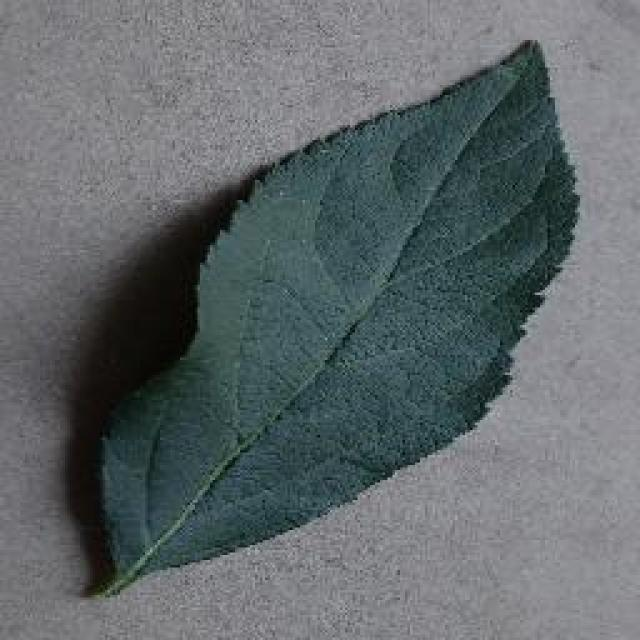apple healthy: (88, 35, 582, 597)
